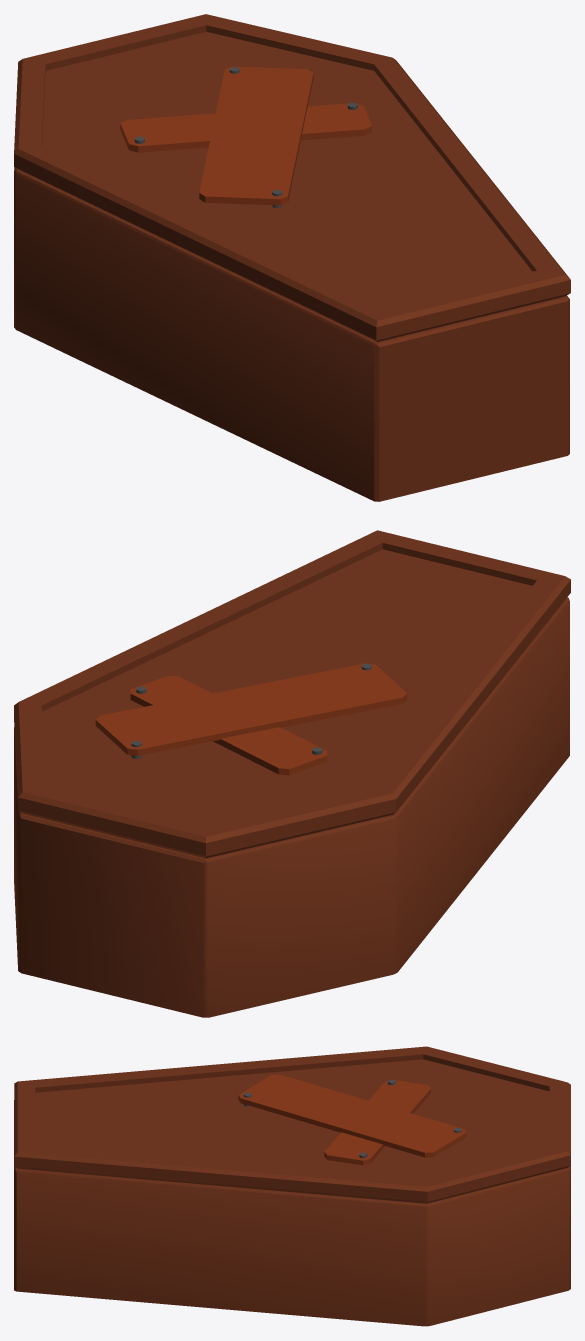
The picture shows the model from 3 angles, top to bottom: view 1: azimuth 30°, elevation 25°; view 2: azimuth 150°, elevation 25°; view 3: azimuth 270°, elevation 25°; orthographic projection. The views are drawn at different scales.
Visible parts, largest first — view 1: Box003; view 2: Box003; view 3: Box003.
Boxes of the visible parts, x1,y1,x2,y2 form: Box003: (14,14,570,501); Box003: (14,530,570,1017); Box003: (14,1046,570,1326).
Bounding box in the file's own units: 18.47 × 30.26 × 8.62.
